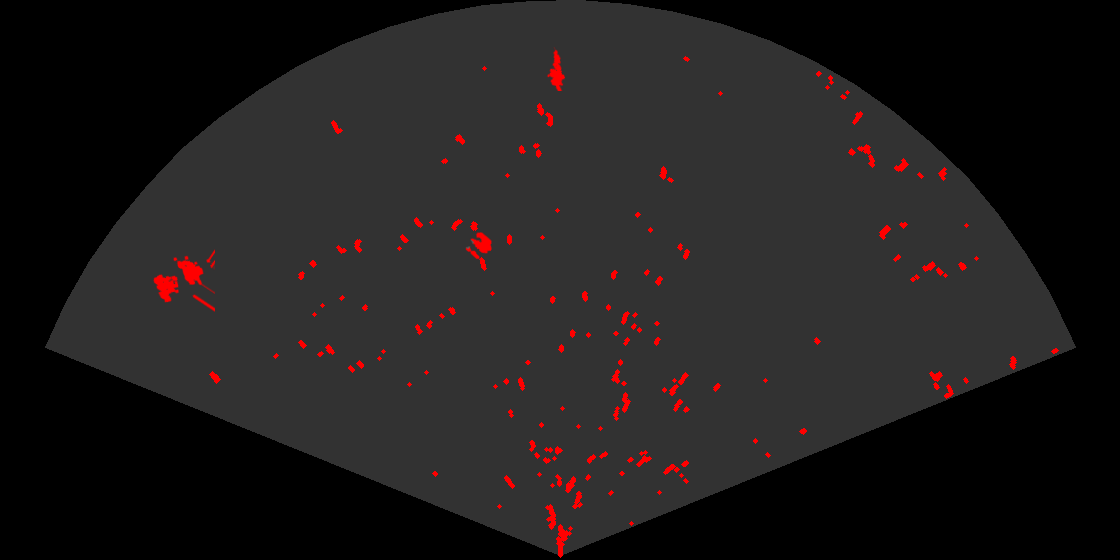ball: (464, 231, 494, 261)
cage: (152, 248, 215, 313)
frogman: (545, 47, 567, 91)
